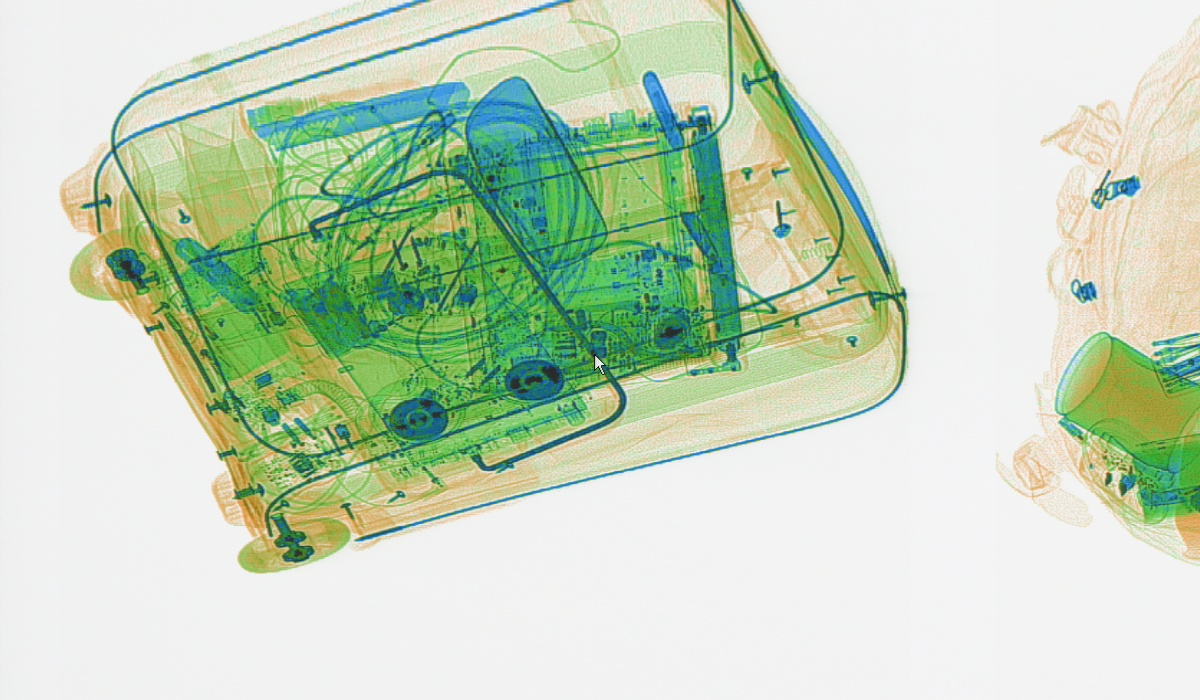knife: (243, 75, 471, 151)
